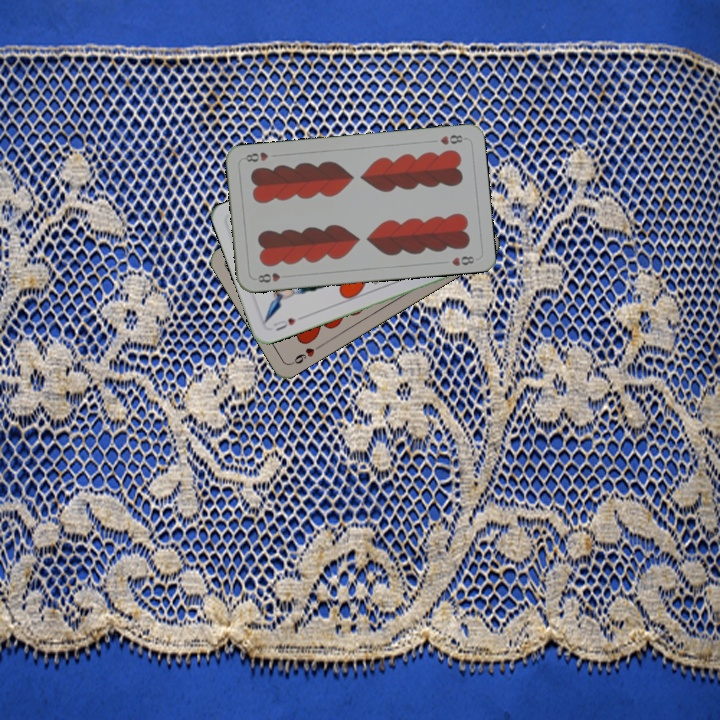H8: (436, 131, 468, 148), (254, 269, 283, 285)
H9: (287, 341, 324, 367)
HU: (269, 314, 299, 334)
